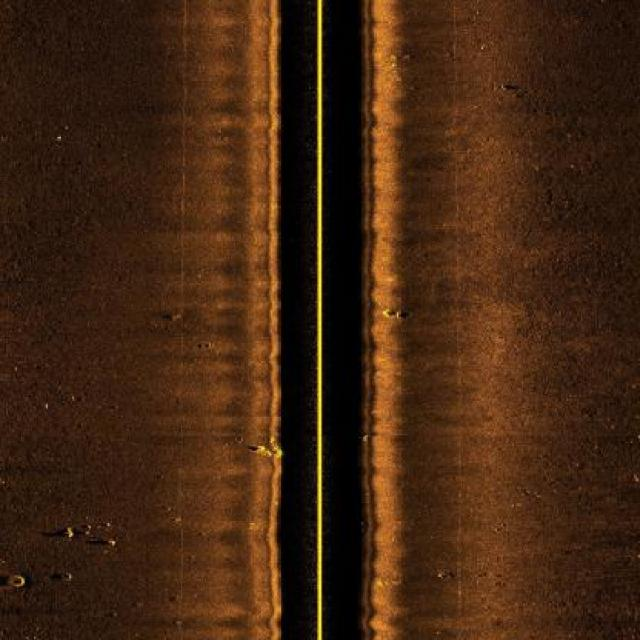other: (50, 514, 132, 558), (238, 428, 291, 464), (379, 301, 418, 328), (0, 569, 31, 594)
